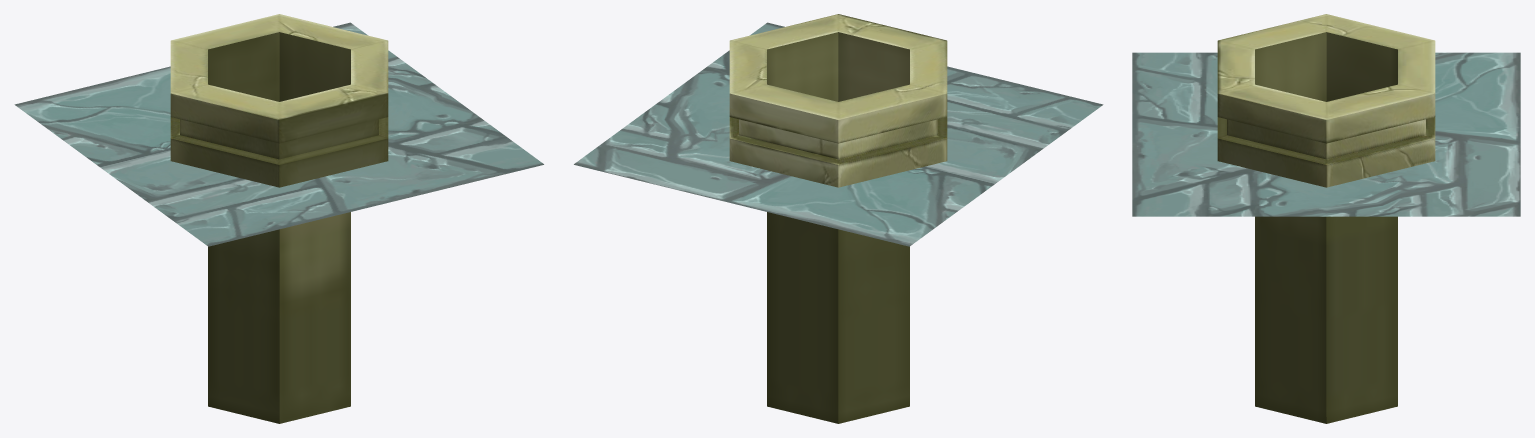
Rendered from wall_grate_new.fbx.
3 views of the same model, side by side, from view 1: azimuth 30°, elevation 25°; view 2: azimuth 150°, elevation 25°; view 3: azimuth 270°, elevation 25° (orthographic).
Visible parts, largest first — view 1: polySurface28; view 2: polySurface28; view 3: polySurface28.
Part boxes in pixels (x1,y1,x2,y2): polySurface28: (14, 14, 543, 423); polySurface28: (574, 14, 1103, 423); polySurface28: (1132, 14, 1520, 423).
Bounding box in the file's own units: 2 × 1.83 × 2.
